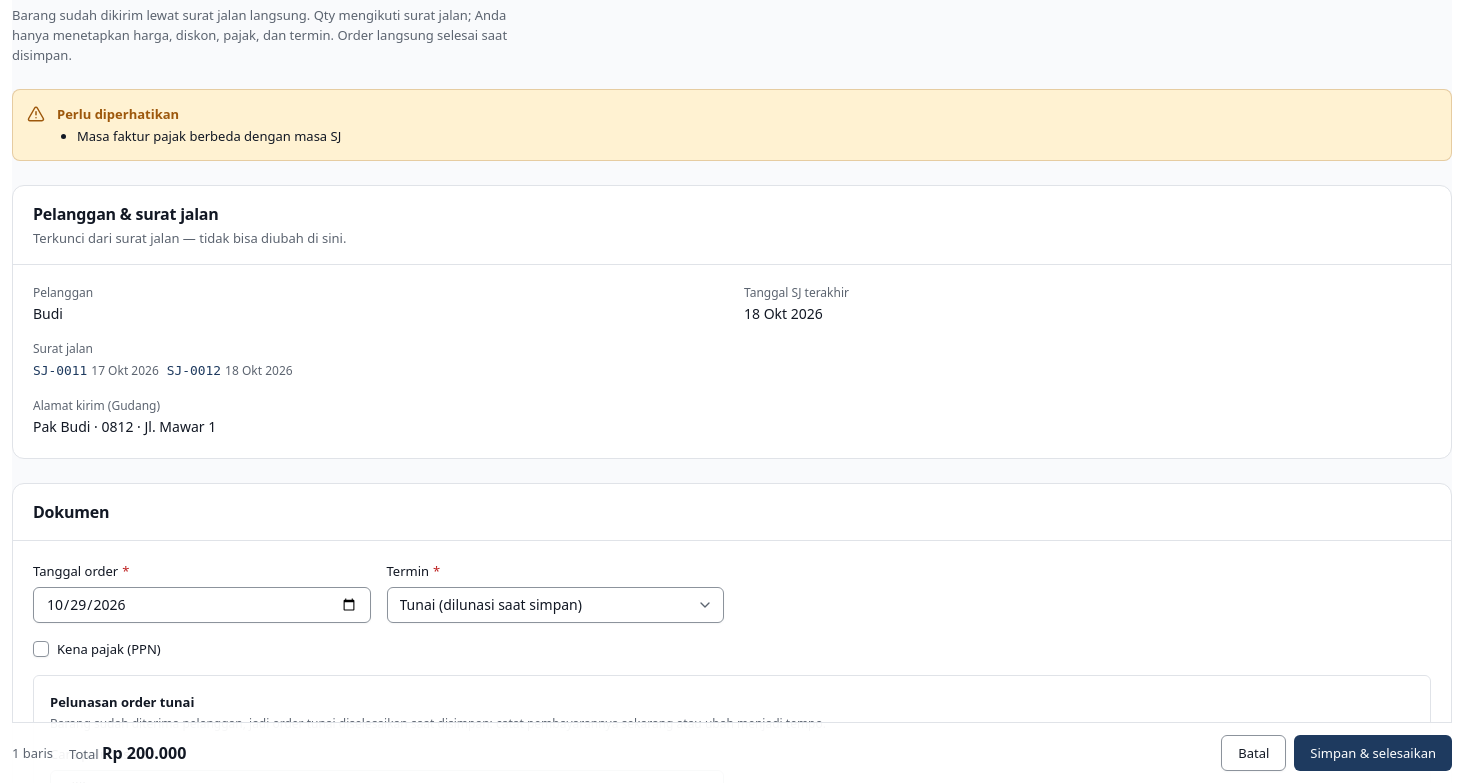
Test: form order jual — mode dari surat jalan (ADR-0022 W-06) › order tunai wajib memilih cara pelunasan sebelum disimpan
expect the text "Budi" is shown: met, box [33,304,63,322]
Click the button "Simpan & selesaikan" at (1373, 753), box [1294,735,1452,771]
(page scrolled)
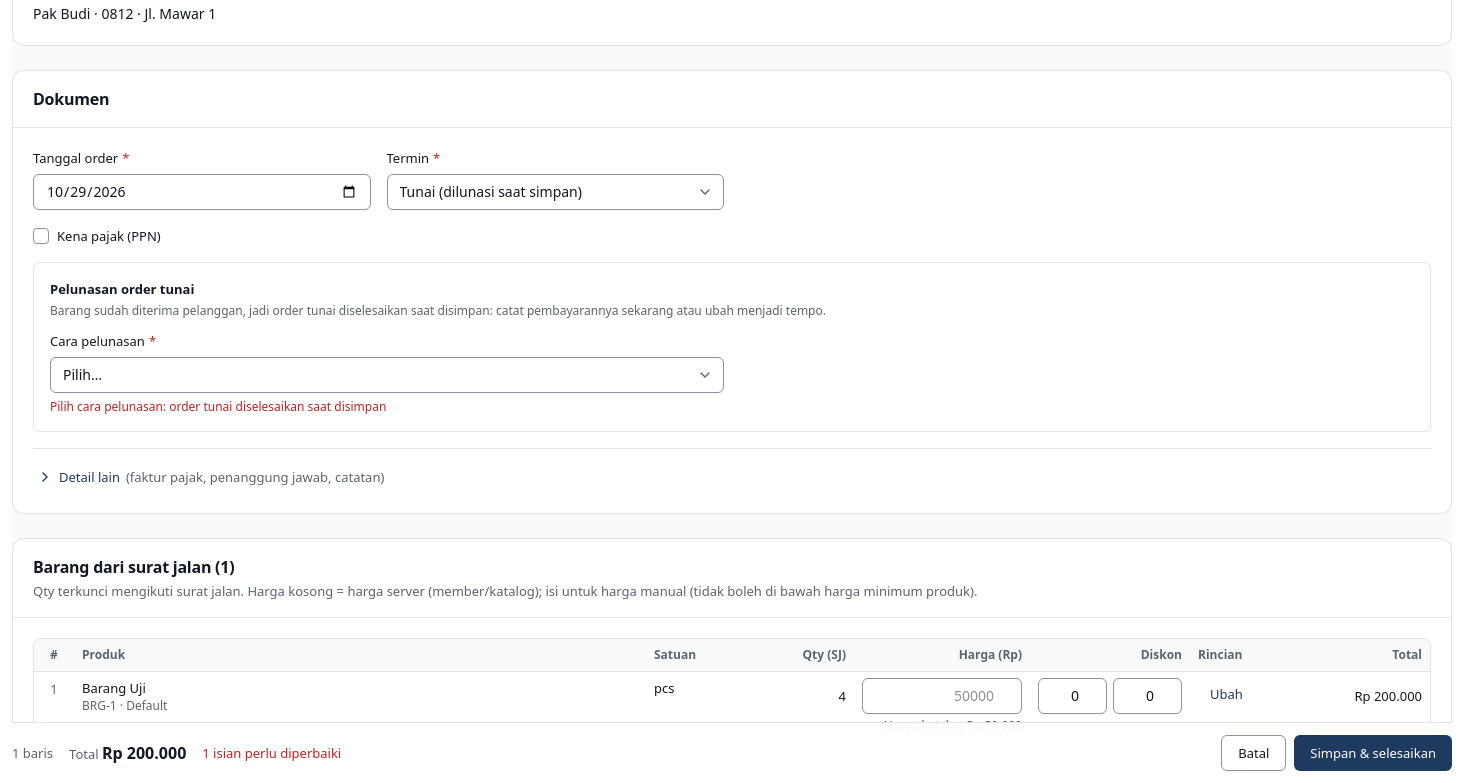
expect the text "Pilih cara pelunasan: order tunai diselesaikan saat disimpan" is shown: met, box [50,398,386,414]
Jadikan tempo tanpa jatuh tempo juga ditolak.
Select "Jadikan tempo (net)" in the dropdown labelled "Cara pelunasan *" at (387, 374), box [50,356,724,392]
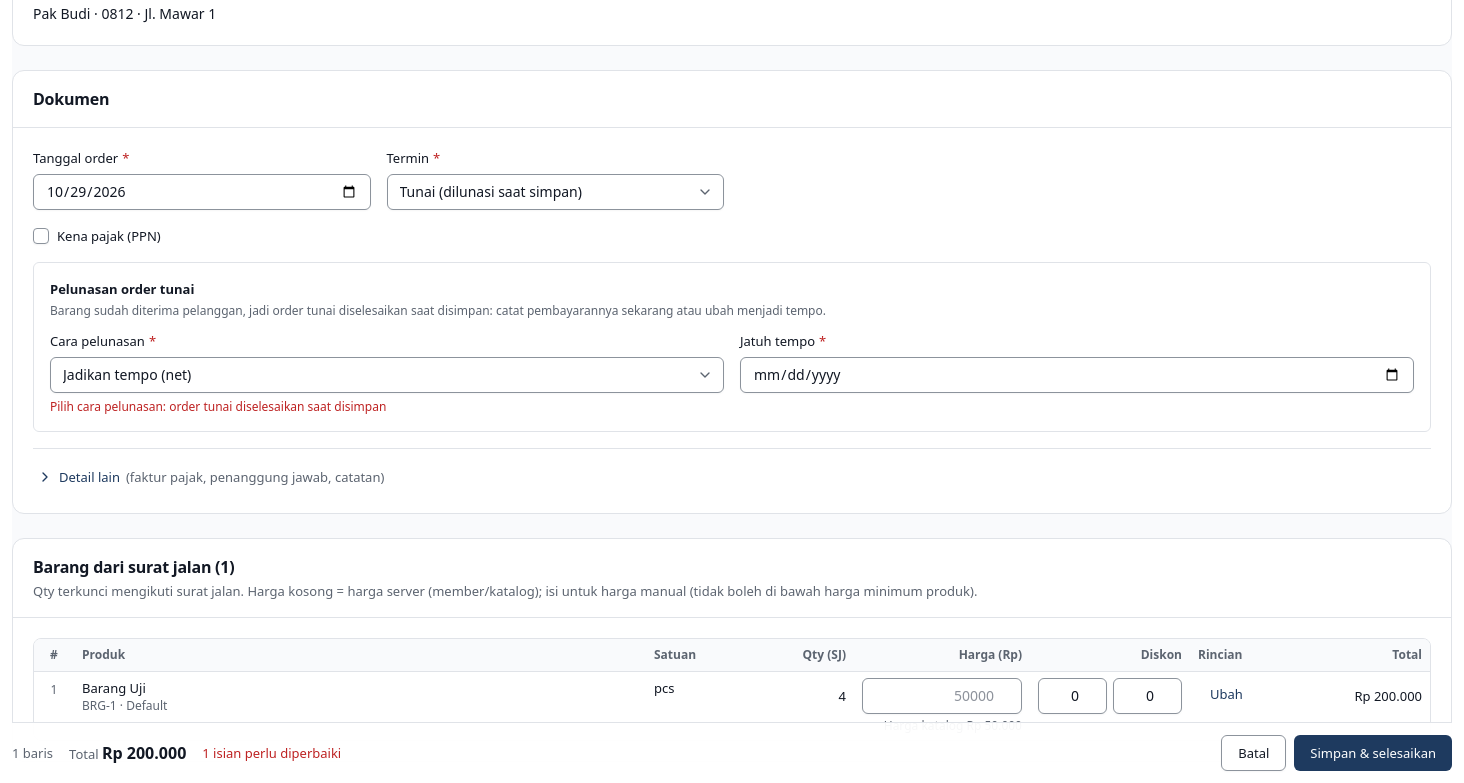
Click the button "Simpan & selesaikan" at (1373, 753), box [1294,735,1452,771]
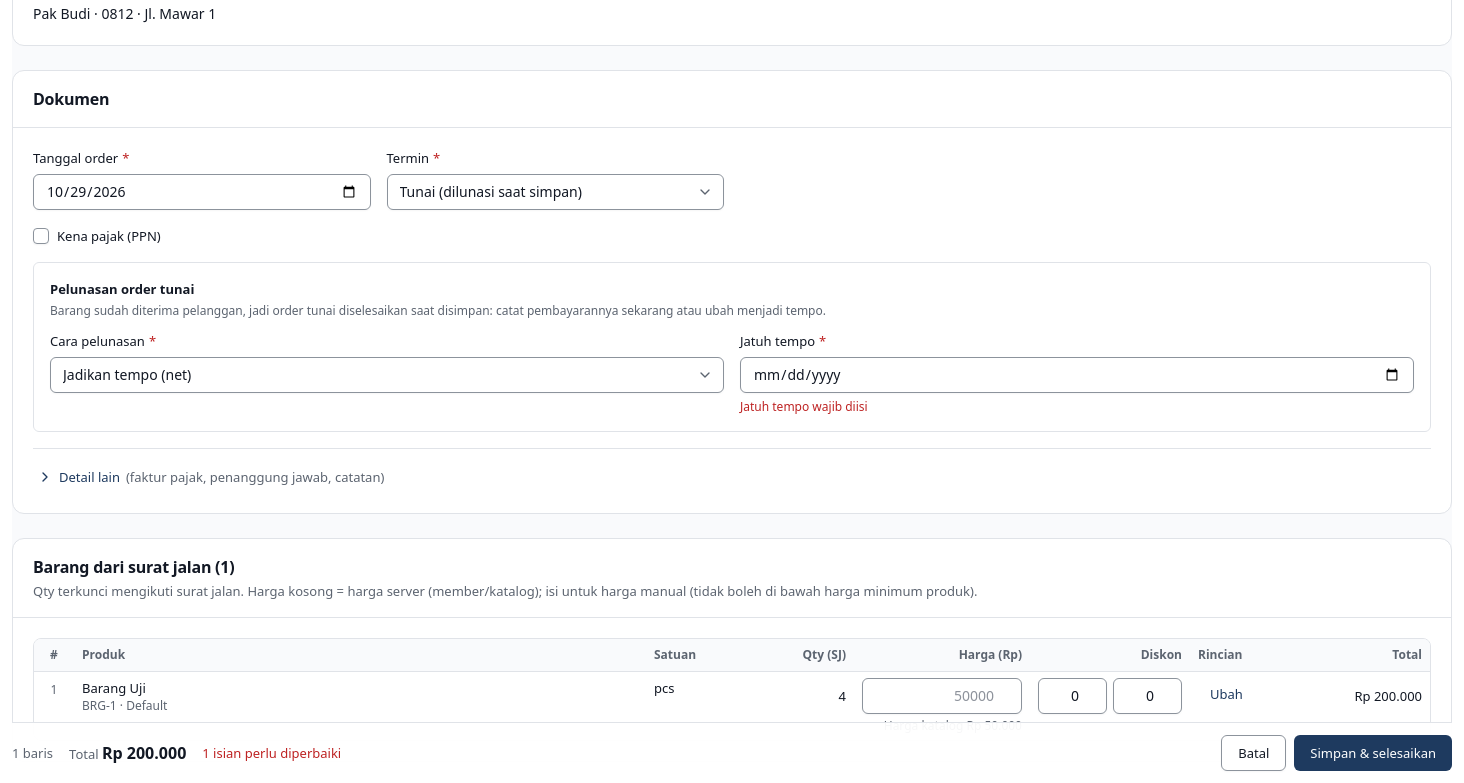
expect the text "Jatuh tempo wajib diisi" is shown: met, box [740,398,868,414]
